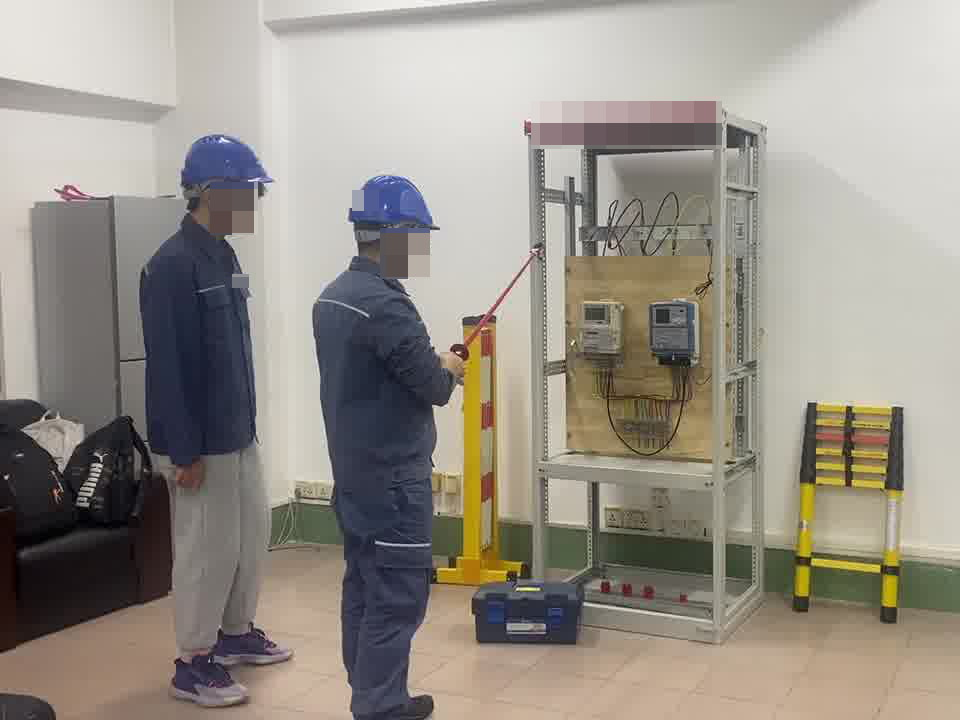downcloth: (164, 460, 255, 633)
downsuit: (333, 483, 438, 720)
halt: (178, 134, 276, 237), (345, 173, 437, 276)
hand: (435, 349, 465, 382), (170, 466, 208, 489)
inear: (195, 183, 234, 224), (386, 225, 416, 269)
person: (306, 169, 467, 719), (133, 132, 275, 666), (132, 132, 279, 474)
testrod: (458, 240, 546, 357)
upsuit: (311, 258, 453, 475), (139, 229, 260, 456)
